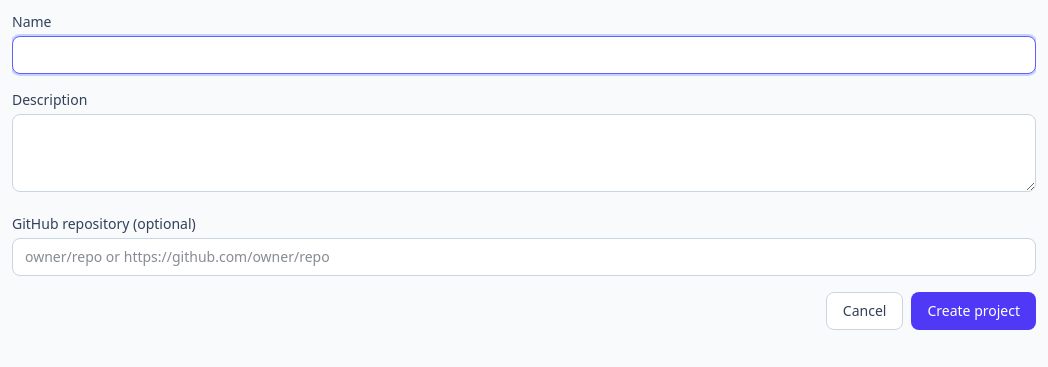
Test: ProjectForm › renders backend field errors and re-enables the form
Type "P" into the field labelled "Name".
click(524, 55); type("P")  # box [12,36,1036,74]
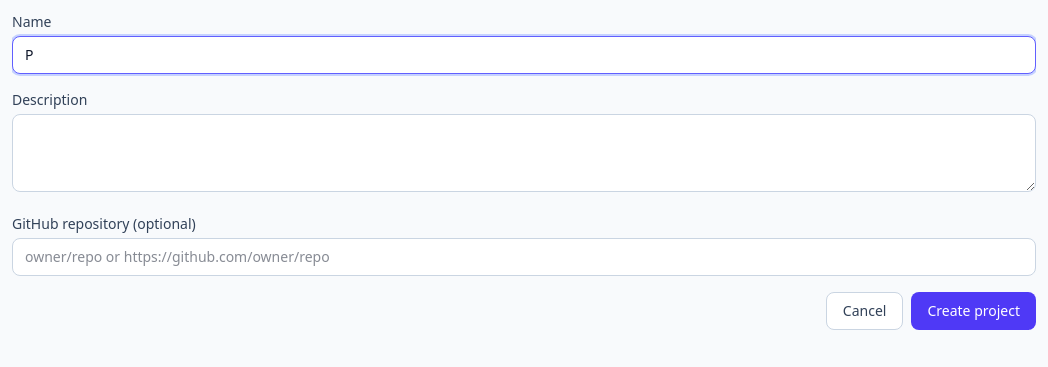
Type "D" into the text box labelled "Description".
click(524, 153); type("D")  # box [12,114,1036,192]
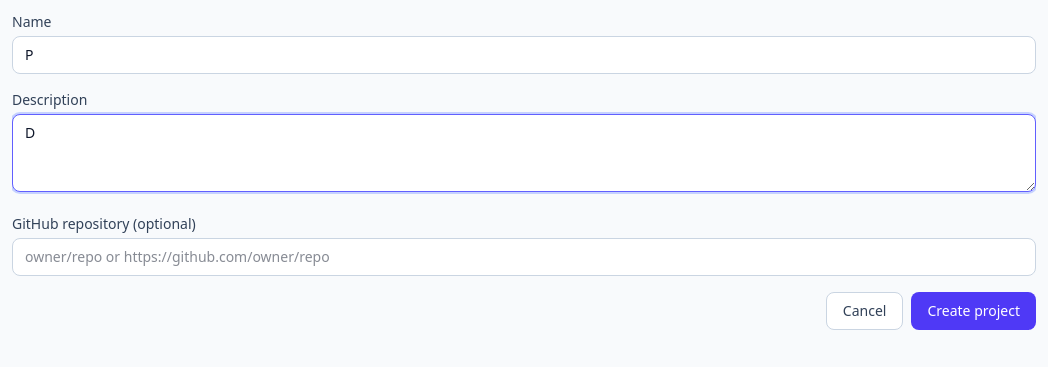
Type "https://gitlab.com/a/b" into the field labelled "GitHub repository (optional)".
click(524, 257); type("https://gitlab.com/a/b")  # box [12,238,1036,276]
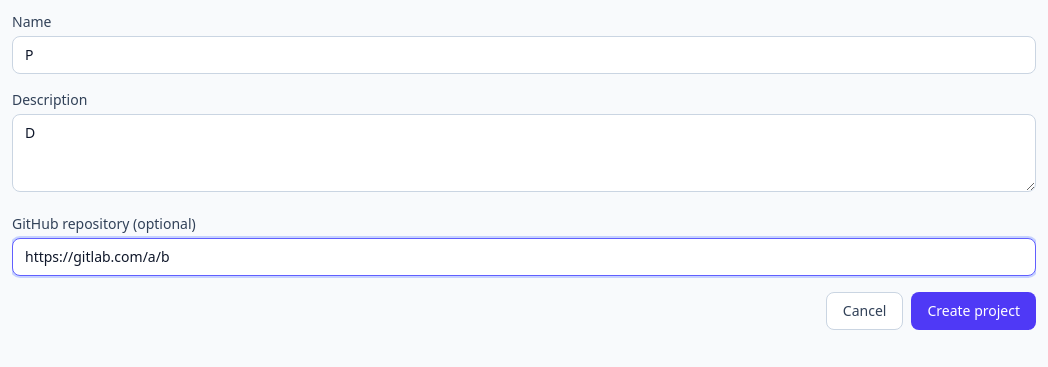
Click the button "Create project".
click(974, 311)  # box [911,292,1036,330]
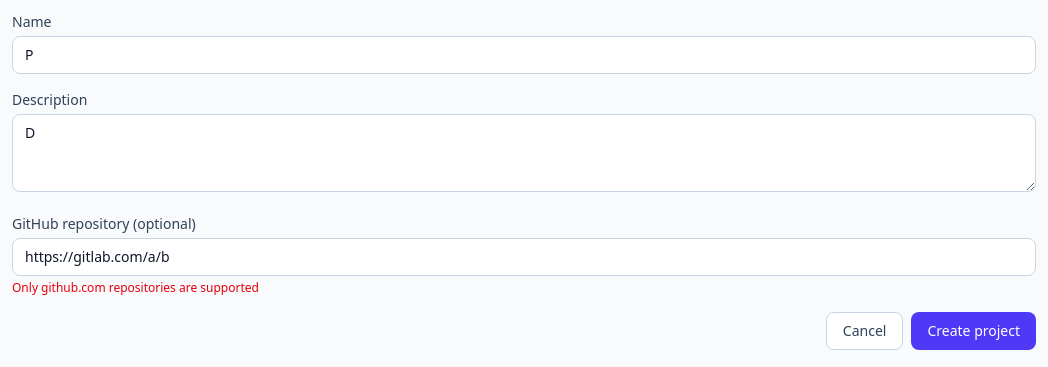
Expected: the button "Create project" is enabled, [911,312,1036,350]
Expected: the text "Only github.com repositories are supported" is shown, [12,279,259,296]
